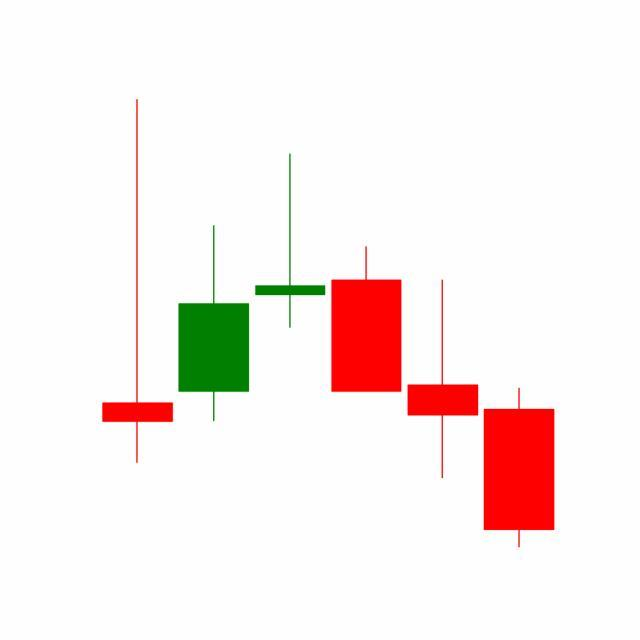Three Outside Up-Down: (252, 150, 482, 483)
